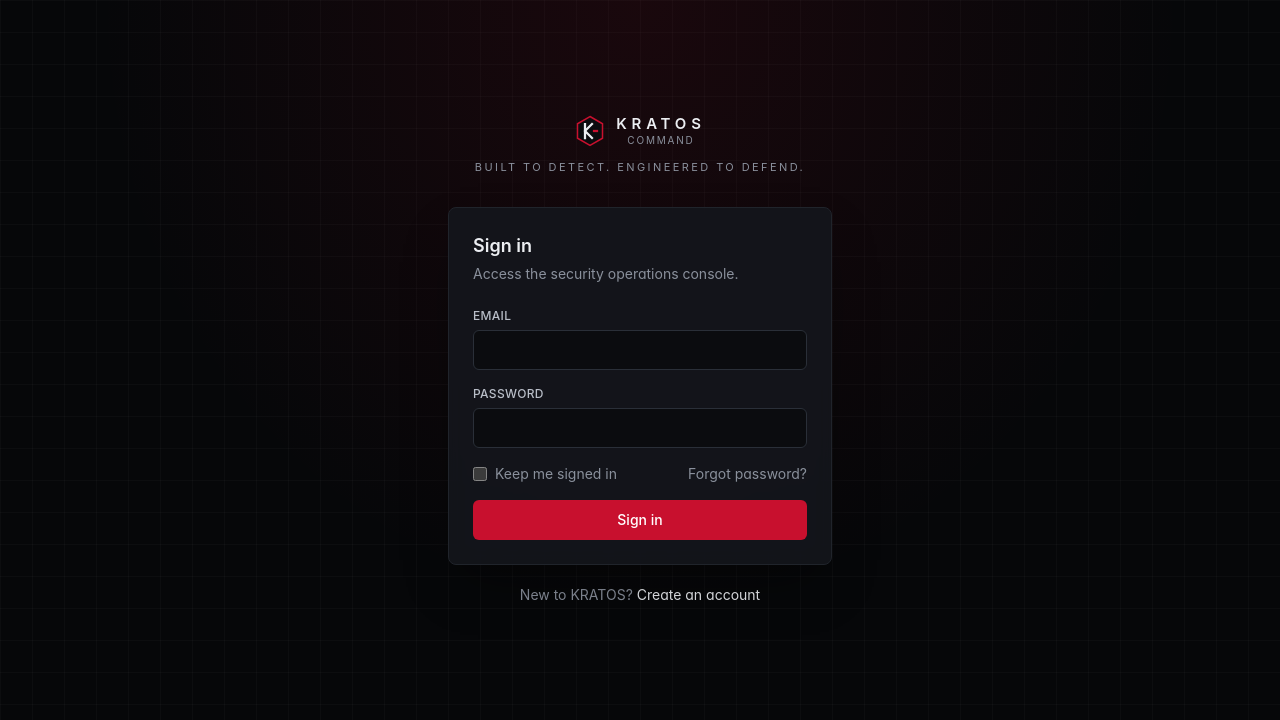
Test: LoginPage › shows the API error message for invalid credentials
This screenshot has width=1280, height=720.
Type "analyst@example.test" into the field labelled "Email" at (640, 350), box x1=473 y1=330 x2=807 y2=370
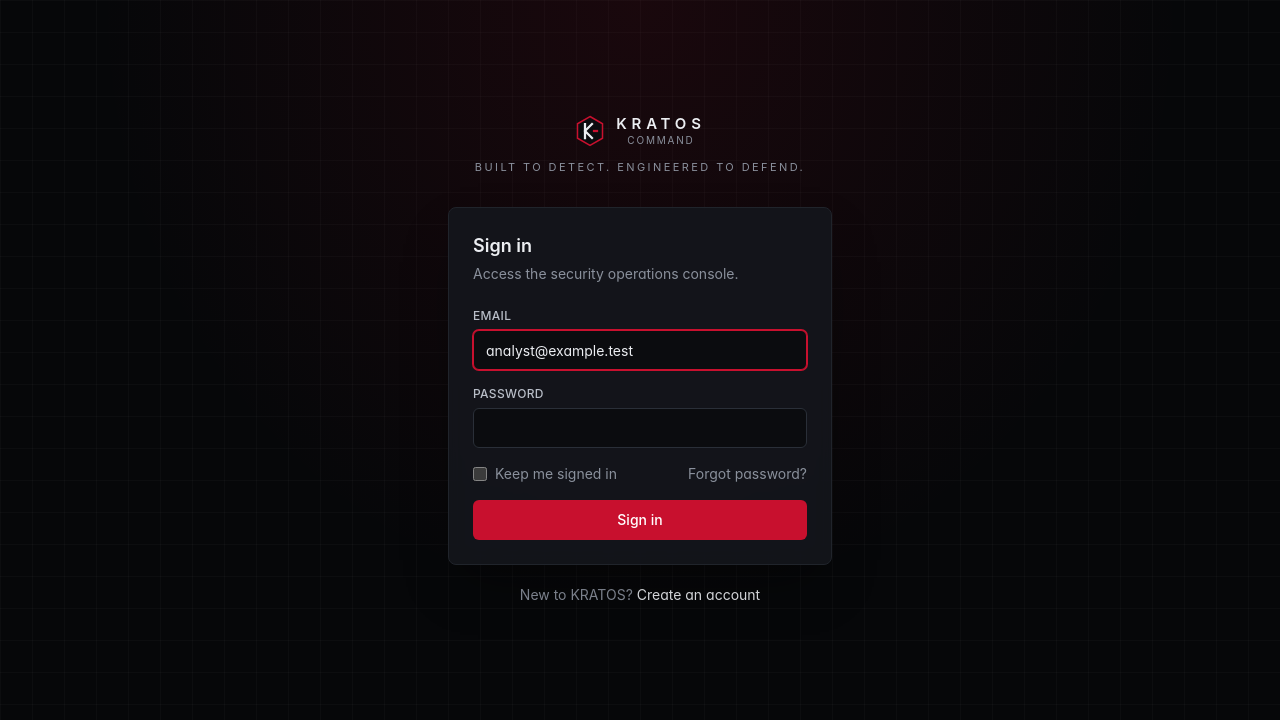
Type "wrong" into the password field labelled "Password" at (640, 428), box x1=473 y1=408 x2=807 y2=448
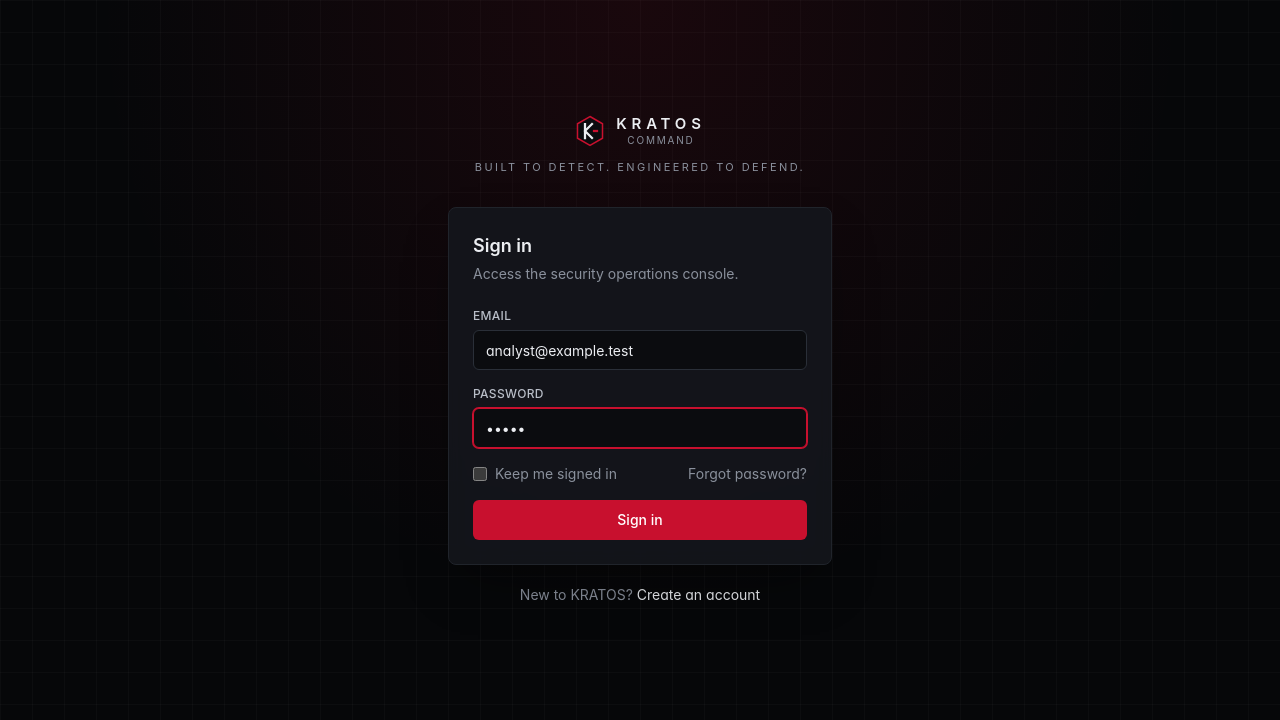
Click the button "Sign in" at (640, 520), box x1=473 y1=500 x2=807 y2=540
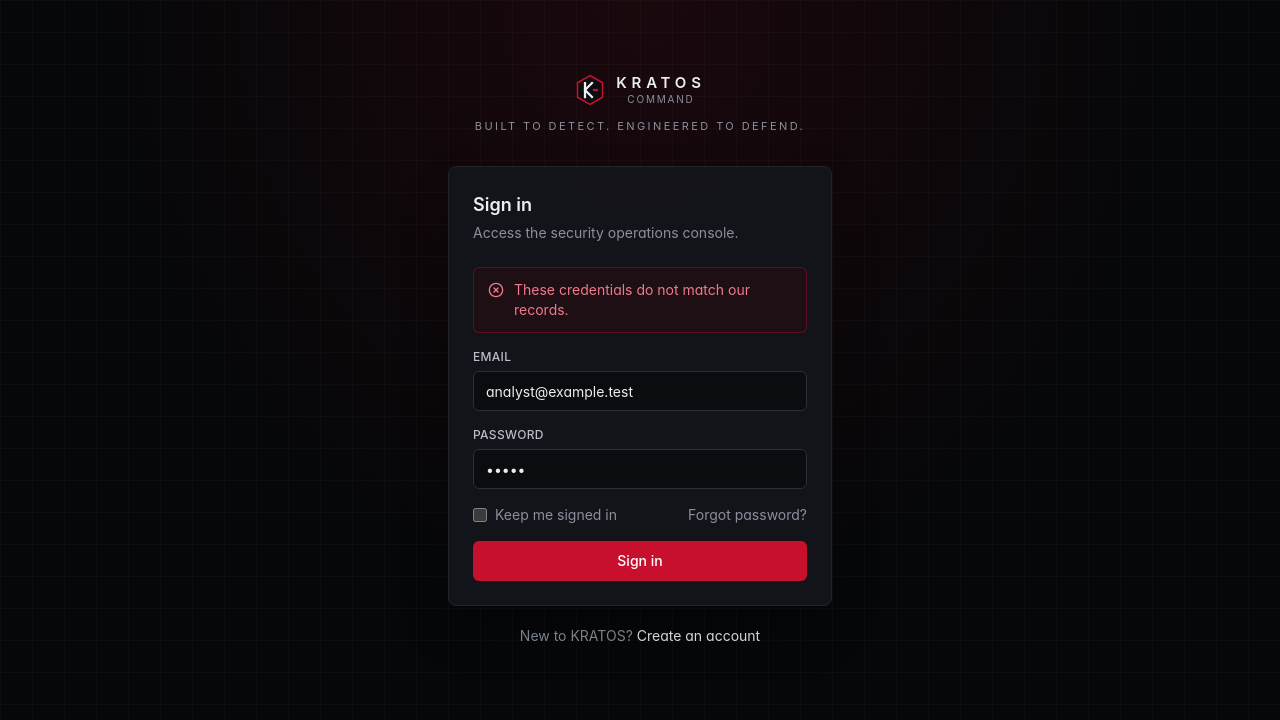
Result: the message reads "These credentials do not match our records." at x1=514 y1=281 x2=750 y2=318
